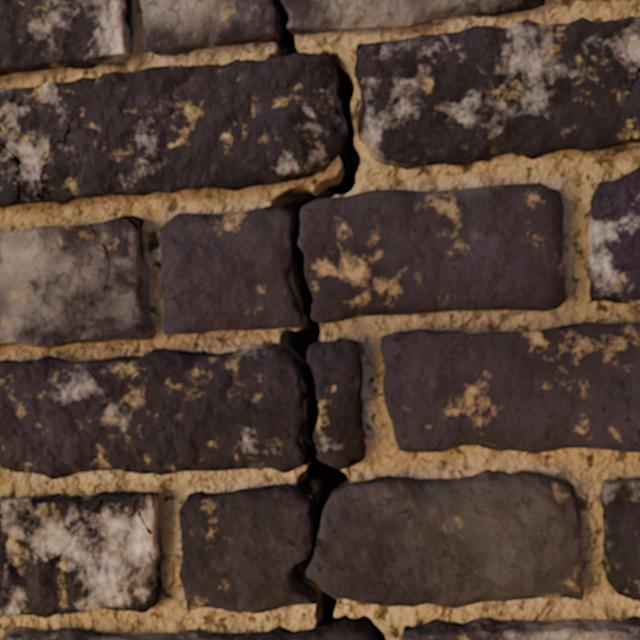broken_brick: (0, 343, 306, 479), (306, 470, 583, 608), (298, 183, 566, 323), (160, 206, 301, 334), (179, 483, 314, 613), (281, 0, 544, 34), (307, 338, 365, 469), (140, 0, 277, 55)
crack: (0, 0, 385, 639), (354, 16, 639, 169), (380, 322, 639, 453), (0, 215, 155, 347), (0, 491, 162, 617), (0, 0, 133, 76), (585, 167, 639, 303), (401, 616, 639, 639), (600, 478, 639, 600), (63, 360, 93, 362), (219, 38, 239, 41), (168, 45, 181, 47)
